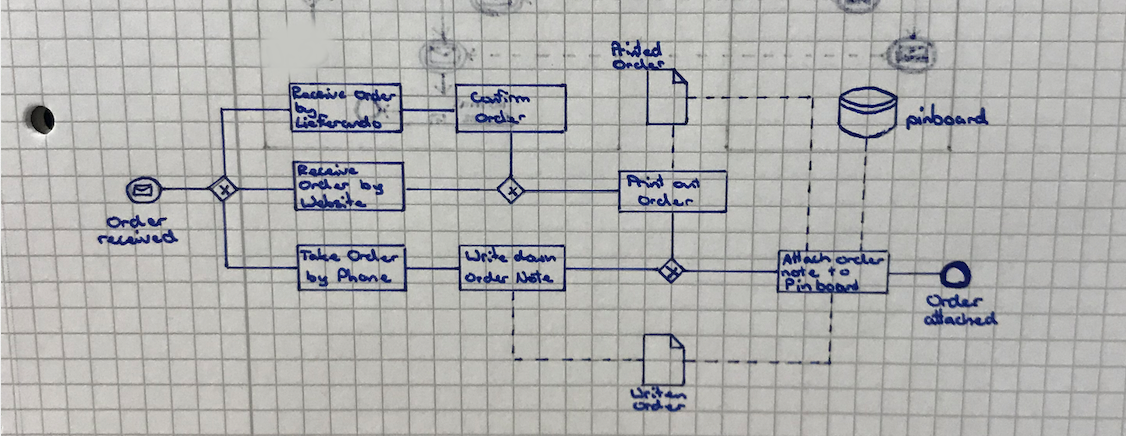Attach: (779, 251, 831, 267)
Confirm: (469, 90, 532, 106)
Lieferando: (295, 114, 382, 133)
Note: (514, 269, 553, 285)
Order: (104, 212, 169, 230), (923, 293, 984, 310), (345, 249, 401, 267), (474, 109, 529, 126), (636, 193, 693, 208), (353, 88, 398, 105), (296, 179, 348, 193), (610, 59, 664, 72), (465, 270, 511, 285)
Phone: (335, 268, 394, 286)
Pinboard: (782, 278, 860, 295)
Print: (625, 174, 667, 191)
Printed: (608, 41, 665, 58)
Receive: (289, 85, 347, 103), (295, 164, 356, 178)
Take: (296, 246, 339, 264)
Website: (298, 194, 370, 209)
Write: (463, 248, 508, 265)
Writen: (628, 386, 690, 400)
attached: (921, 310, 1004, 329)
by: (359, 179, 387, 196), (305, 269, 329, 288), (293, 103, 319, 118)
down: (513, 249, 557, 266)
note: (779, 267, 823, 280)
order: (630, 398, 687, 414), (832, 253, 885, 267)
out: (672, 175, 704, 192)
pinboard: (904, 103, 994, 131)
received: (94, 230, 178, 249)
to: (825, 266, 853, 279)
